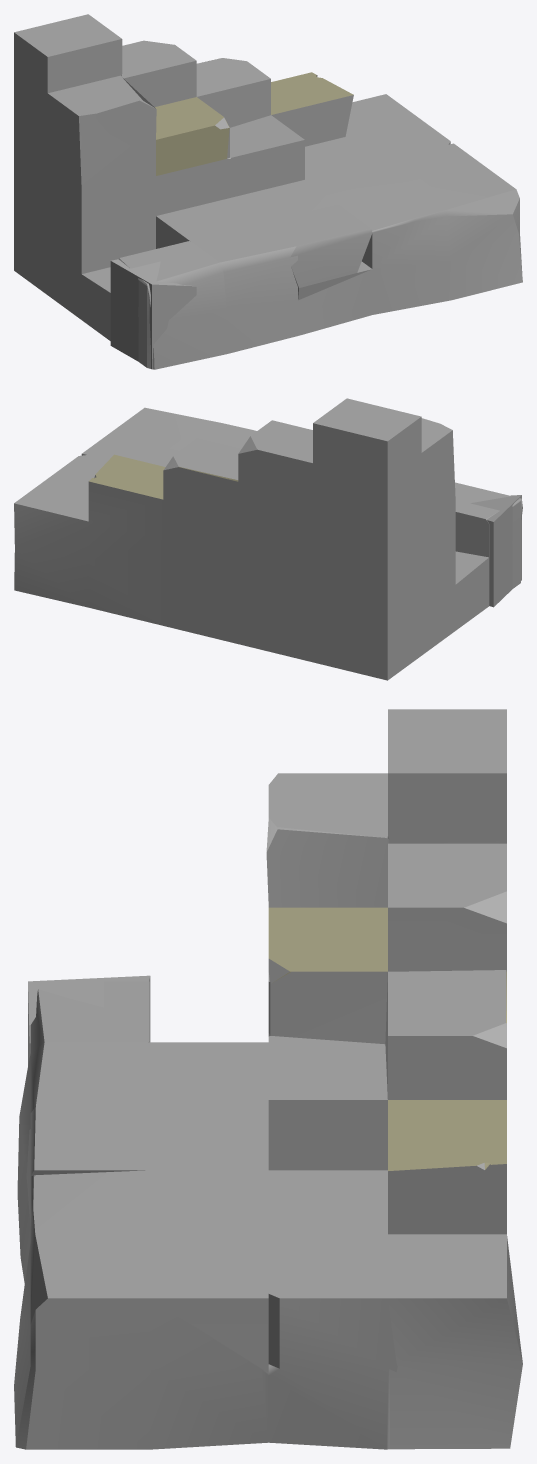
File: level3_block3.fbx
3 renders of one model, top to bottom at view 1: azimuth 30°, elevation 25°; view 2: azimuth 150°, elevation 25°; view 3: azimuth 270°, elevation 25°, orthographic. The views are drawn at different scales.
Parts seen in each view (by area): view 1: pCube68; view 2: pCube68; view 3: pCube68.
Boxes of the visible parts, x1,y1,x2,y2 form: pCube68: (14,14,522,369); pCube68: (14,398,522,680); pCube68: (14,709,522,1449).
Size of the model in its own units: 1315 by 795 by 873.
